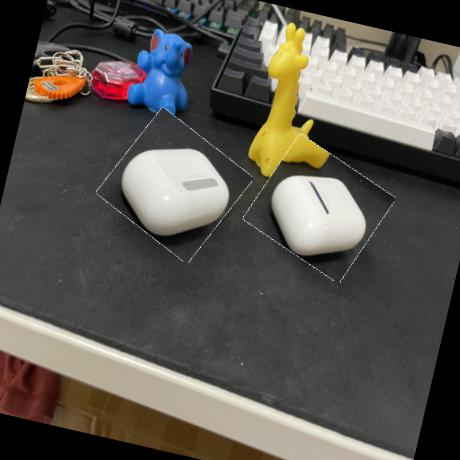airpod2: (242, 135, 396, 282)
airpod3: (95, 108, 254, 262)
